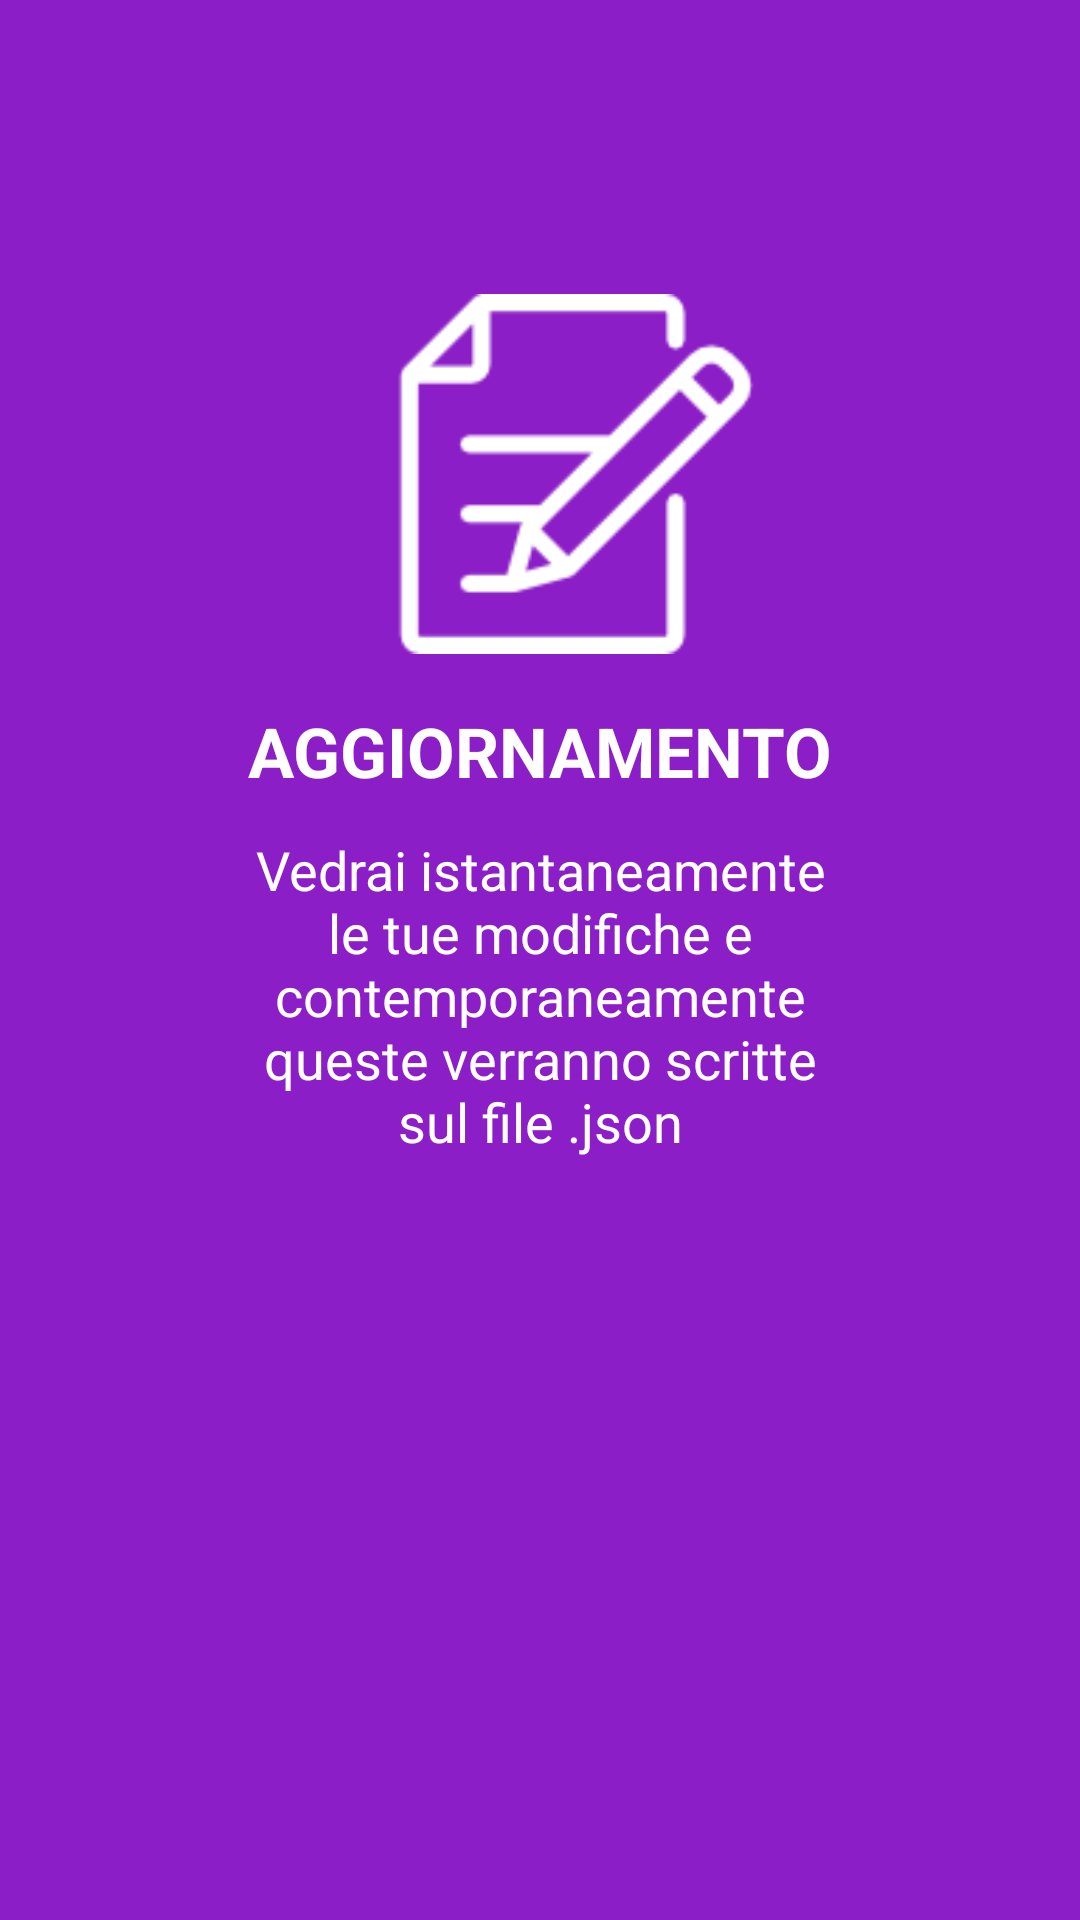

Where to tap for icons on this 1080w x 1920h app screen, as [x,y]:
edit: [575,474]
